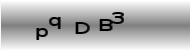3: (110, 11, 125, 25)
B: (98, 18, 114, 32)
D: (74, 20, 91, 35)
p: (34, 27, 48, 41)
q: (47, 15, 62, 30)
